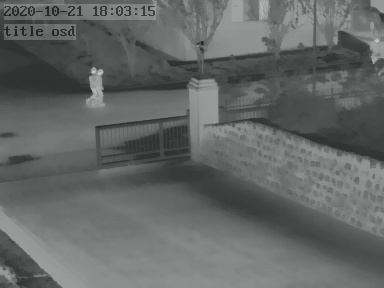person: (87, 65, 105, 103), (372, 35, 383, 65)
